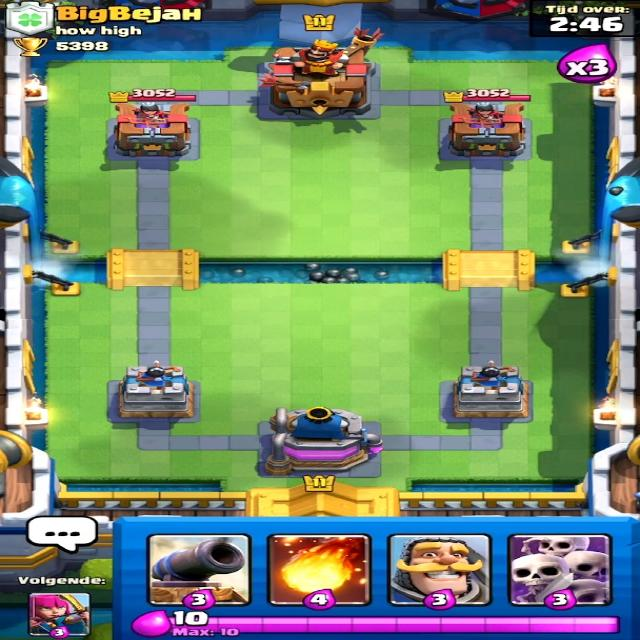Cannon_Card: (144, 535, 252, 607)
Fireball_Card: (268, 532, 376, 610)
